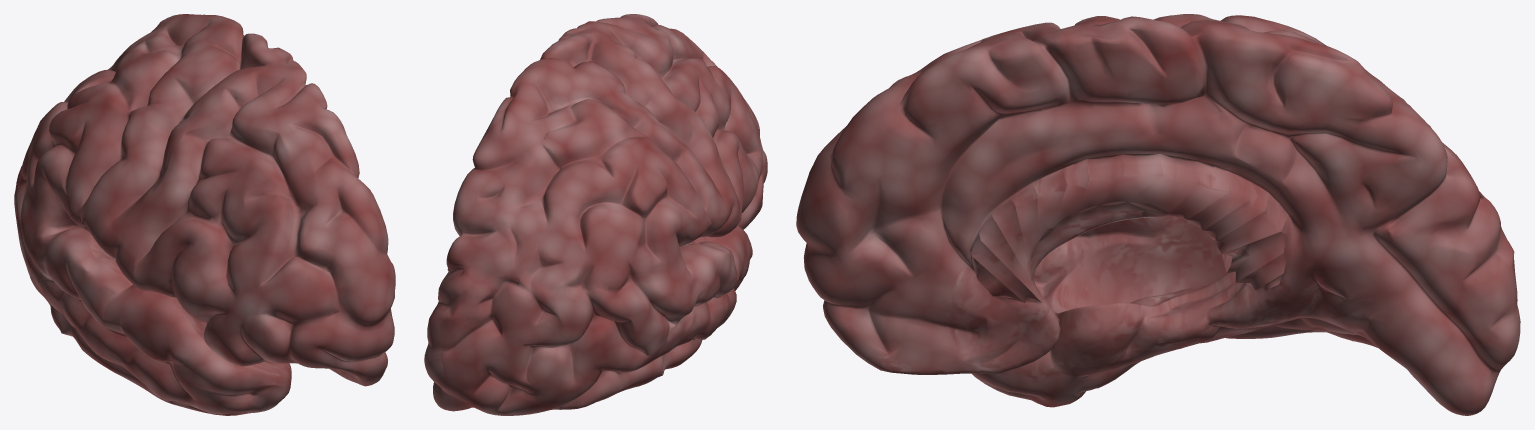
File: brain matrial.fbx
3 views of the same model, side by side, from view 1: azimuth 30°, elevation 25°; view 2: azimuth 150°, elevation 25°; view 3: azimuth 270°, elevation 25° (orthographic). The views are drawn at different scales.
Parts seen in each view (by area): view 1: low; view 2: low; view 3: low.
Part boxes in pixels (box(x1,y1,x2,y2)): low: box(14, 14, 395, 415); low: box(424, 14, 767, 415); low: box(796, 14, 1520, 415).
Size of the model in its own units: 192 by 301 by 473.
